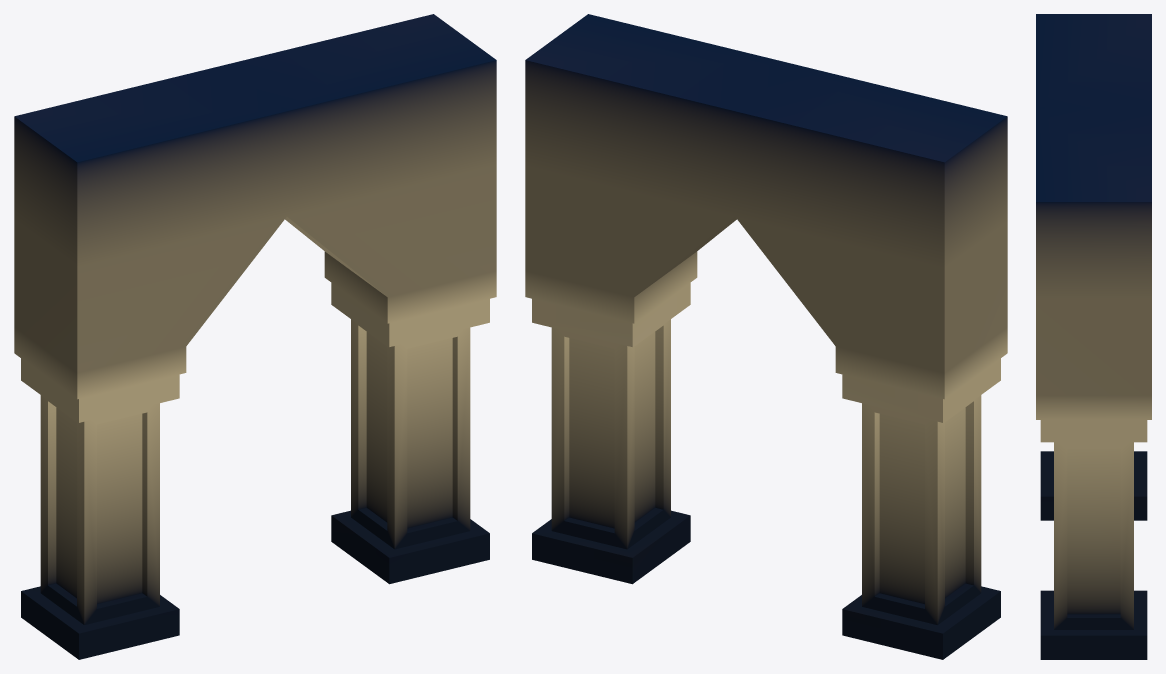
The model's file is gate.glb.
3 views of the same model, side by side, from view 1: azimuth 30°, elevation 25°; view 2: azimuth 150°, elevation 25°; view 3: azimuth 270°, elevation 25° (orthographic). The views are drawn at different scales.
Visible parts, largest first — view 1: PillarA; view 2: PillarA; view 3: PillarA.
Part boxes in pixels (<box>): PillarA: <box>14,14,496,659</box>; PillarA: <box>525,14,1007,659</box>; PillarA: <box>1036,14,1151,659</box>.
Bounding box in the file's own units: 4.17 × 4.75 × 1.08.
